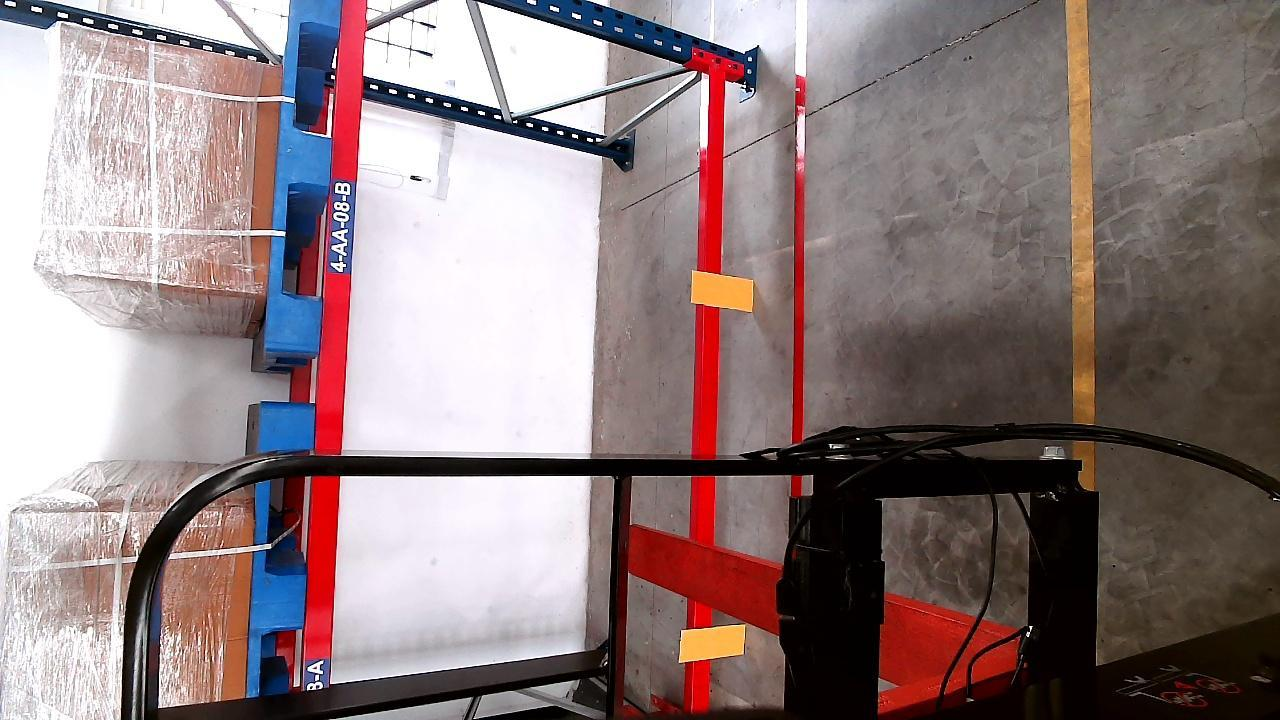yellow_line: (1069, 0, 1093, 473)
